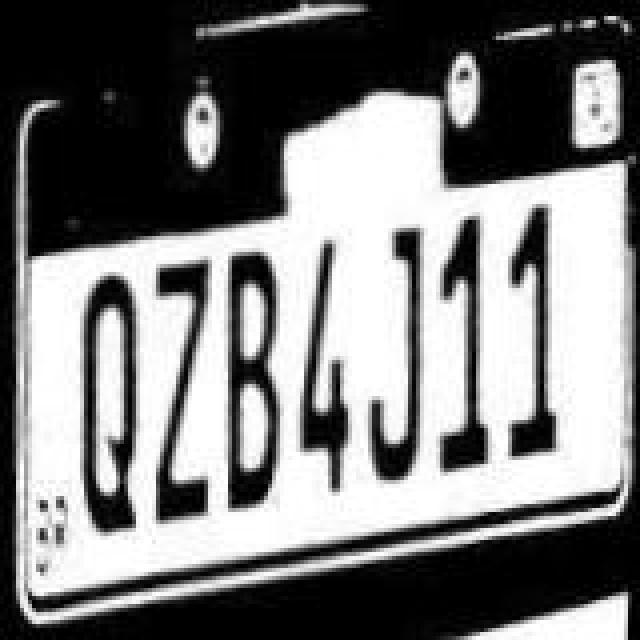1: (422, 206, 502, 474), (494, 198, 574, 458)
4: (288, 238, 360, 502)
B: (214, 250, 290, 518)
J: (350, 222, 426, 490)
Q: (62, 270, 142, 538)
Z: (134, 260, 218, 528)
